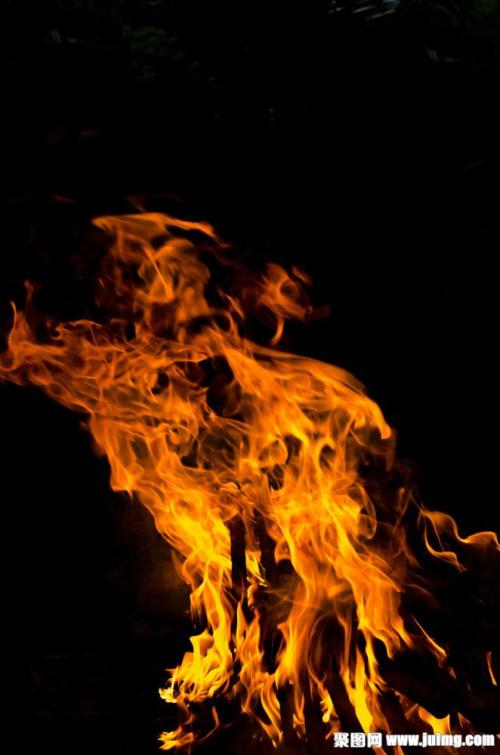fire: (75, 290, 376, 571)
